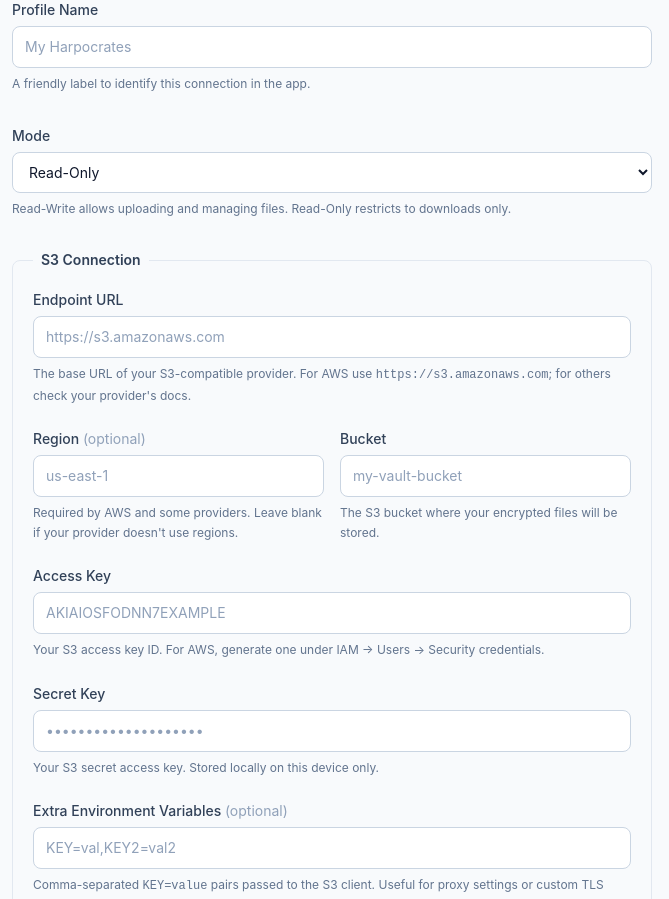
Scenario: ProfileForm — encryption key section (read-only) › switching to read-write still shows the key input field
Select "Read-Write" in the dropdown labelled "Mode" at [332, 172], box 12,152 -> 652,192
(page scrolled)
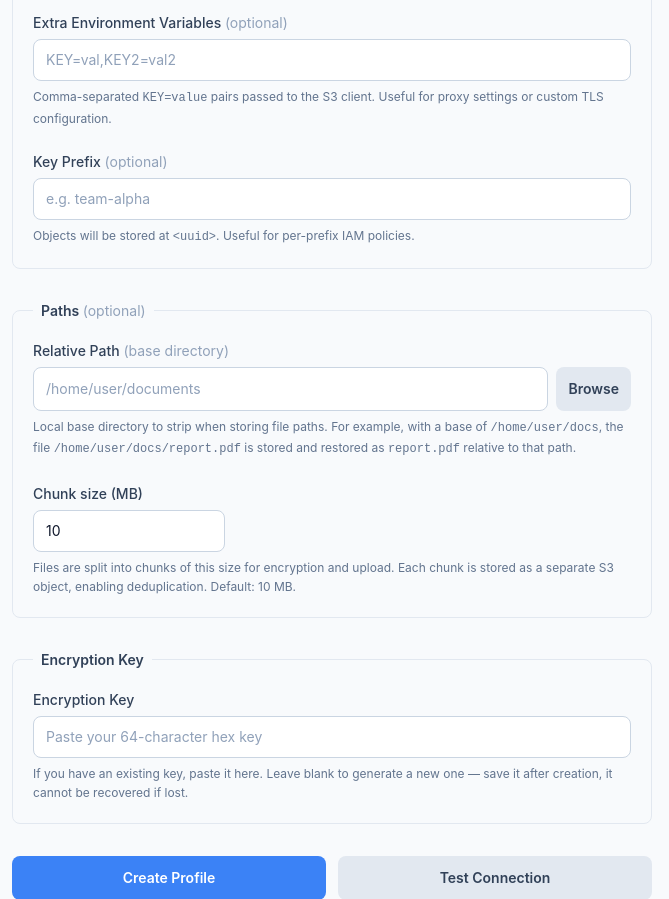
Expected: the password field labelled "Encryption Key" is shown, 33,716 -> 631,758
Expected: the text "Leave blank to generate a new one" is shown, 33,766 -> 612,800
